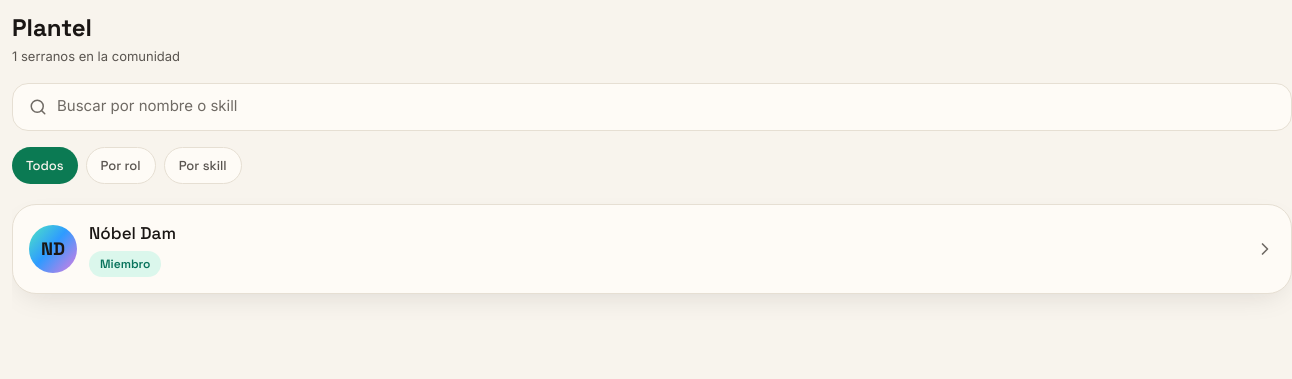
Test: PlantelList › shows an empty state inside the role picker when there are no options
Click the button "Por rol": (121, 165) x1=86 y1=146 x2=156 y2=184
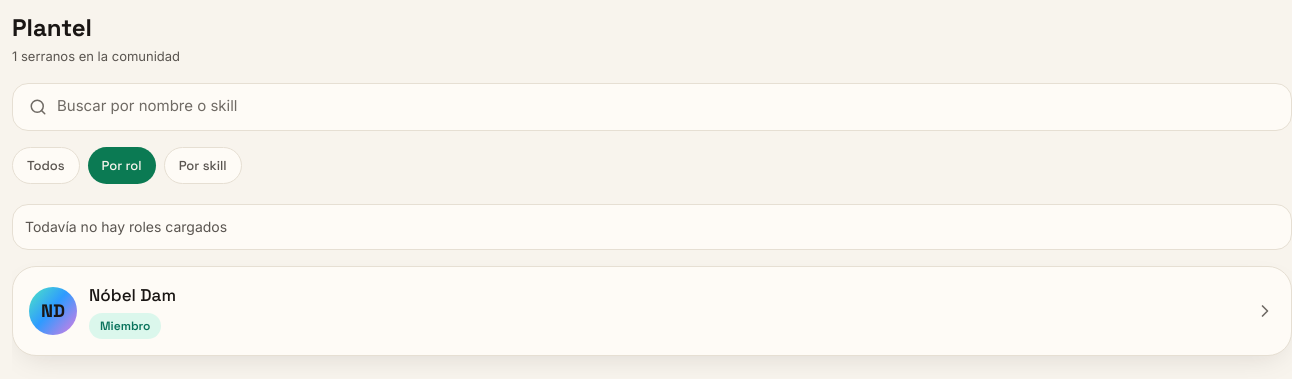
expect the text "Todavía no hay roles cargados" is shown: met, box x1=25 y1=217 x2=227 y2=237
